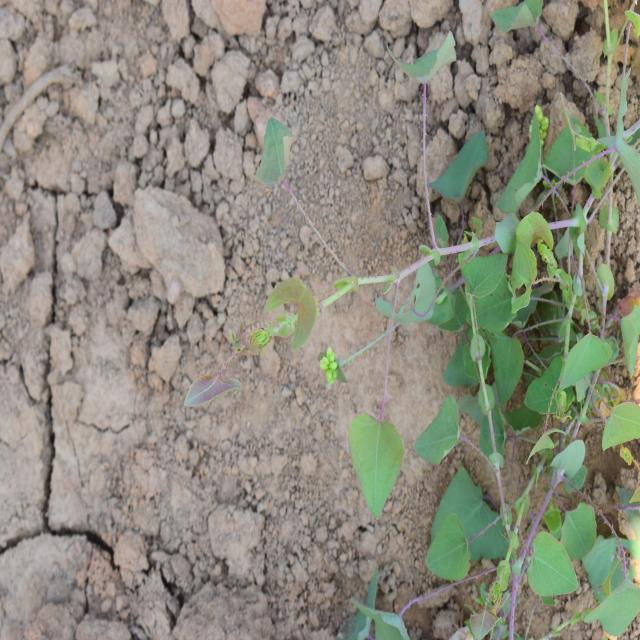Asiatic_Smartweed: (217, 121, 411, 497), (413, 246, 520, 589), (531, 492, 640, 640)
